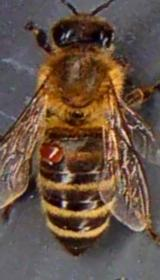varroa_mite: (35, 135, 70, 166)
